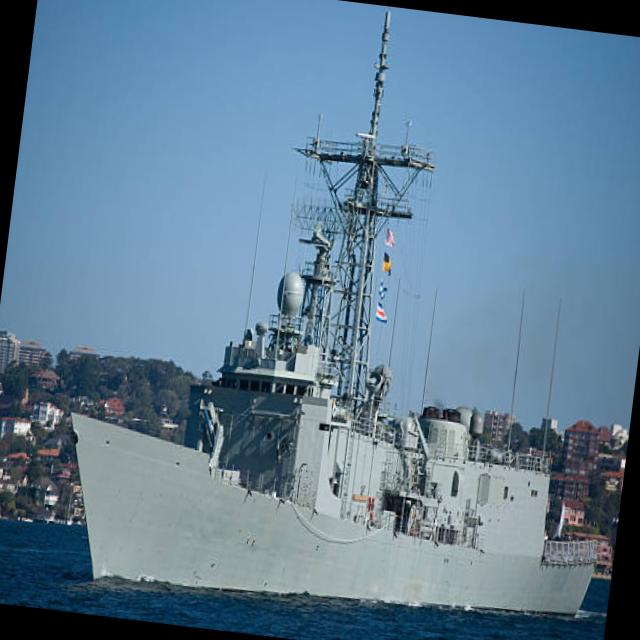Military: (70, 14, 614, 616)
